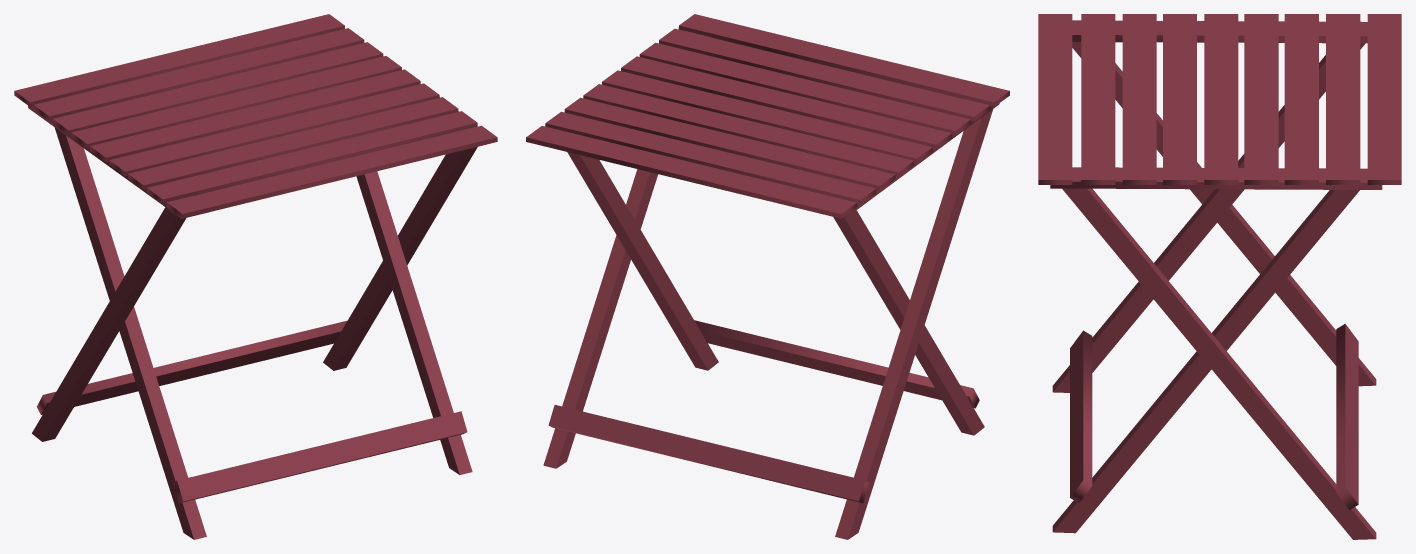
Rendered from mesa.fbx.
3 views of the same model, side by side, from view 1: azimuth 30°, elevation 25°; view 2: azimuth 150°, elevation 25°; view 3: azimuth 270°, elevation 25° (orthographic). The views are drawn at different scales.
Visible parts, largest first — view 1: mesa; view 2: mesa; view 3: mesa.
Boxes of the visible parts, x1,y1,x2,y2 form: mesa: (14, 14, 497, 539); mesa: (526, 14, 1009, 539); mesa: (1038, 14, 1401, 539).
Size of the model in its own units: 57.14 by 58.26 by 52.89.
